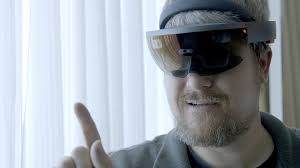hololens: (145, 22, 276, 78)
